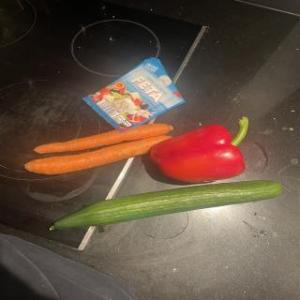bell_pepper: (138, 111, 266, 195)
carrot: (14, 133, 180, 175), (15, 119, 187, 151)
cucumber: (38, 180, 300, 232)
